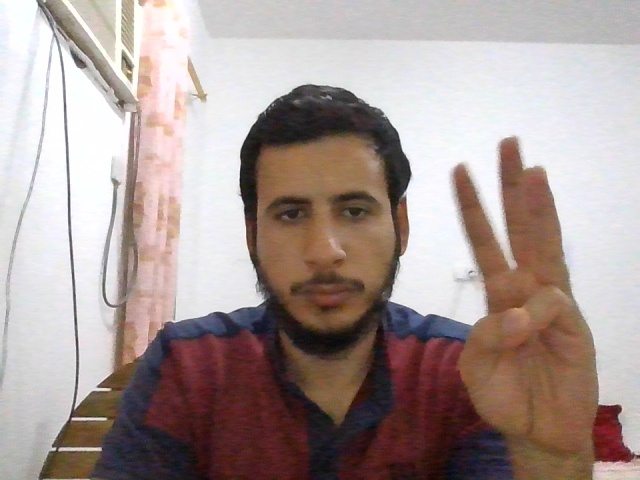Three: (450, 136, 600, 449)
